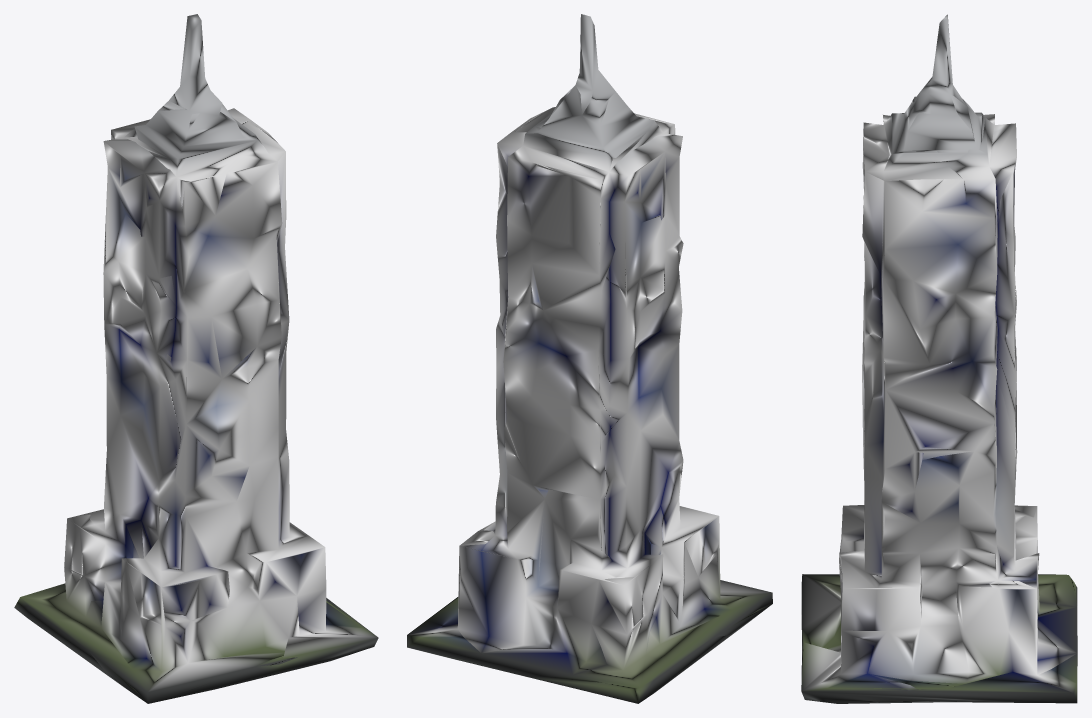
Rendered from gen3d-skyscraper-lod1.glb.
The picture shows the model from 3 angles, left to right: view 1: azimuth 30°, elevation 25°; view 2: azimuth 150°, elevation 25°; view 3: azimuth 270°, elevation 25°; orthographic projection. The views are drawn at different scales.
Parts seen in each view (by area): view 1: part_0; view 2: part_0; view 3: part_0.
Part boxes in pixels (box(x1,y1,x2,y2)): part_0: box(14, 14, 378, 703); part_0: box(407, 14, 772, 703); part_0: box(801, 14, 1077, 703).
Size of the model in its own units: 0.3971 by 0.9975 by 0.3964.
